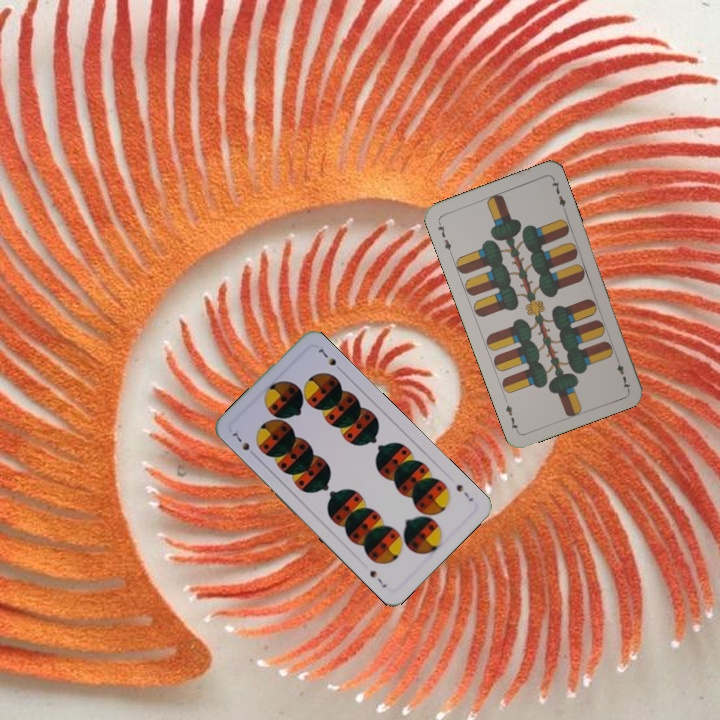E7: (611, 352, 632, 391), (434, 217, 454, 257)
S7: (229, 428, 259, 460), (452, 480, 476, 504)
